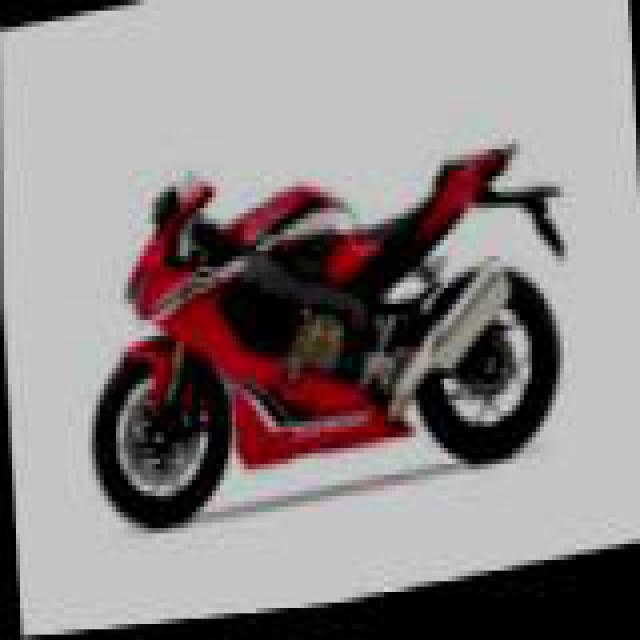CBR500R: (76, 114, 564, 546)
